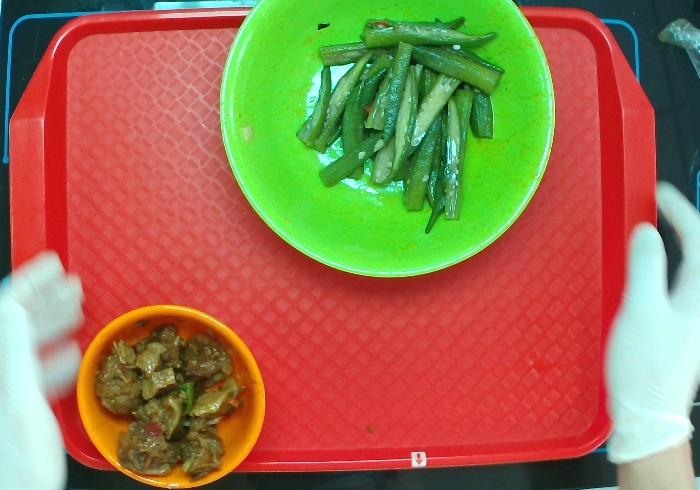YKMZ-Ju_Se_Yuan_Wan: (65, 297, 273, 488)
YKMZ-Lv_Se_Tang_Wan: (210, 1, 561, 285)
